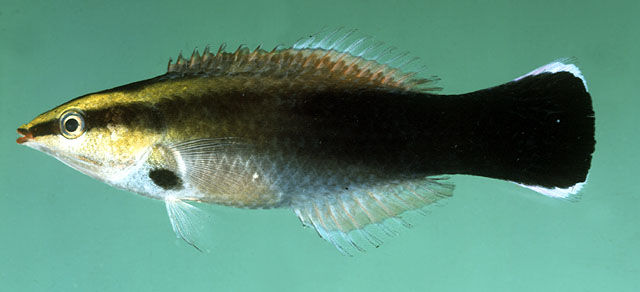fish: (15, 24, 596, 258)
